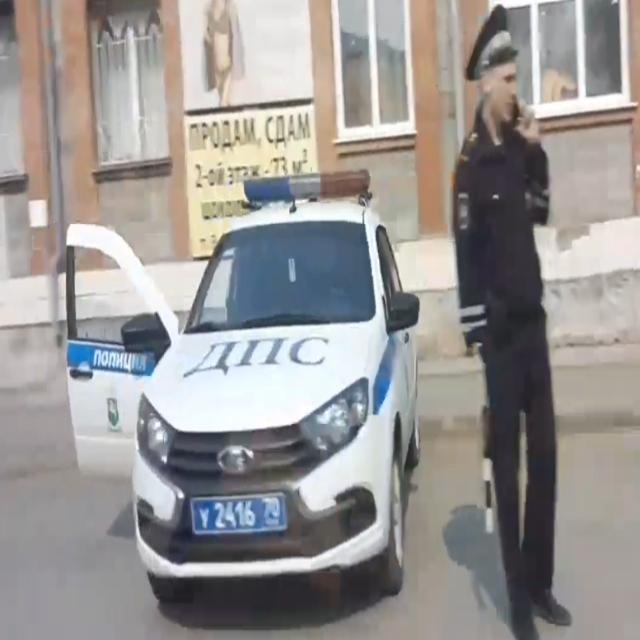police car: (132, 164, 423, 612)
